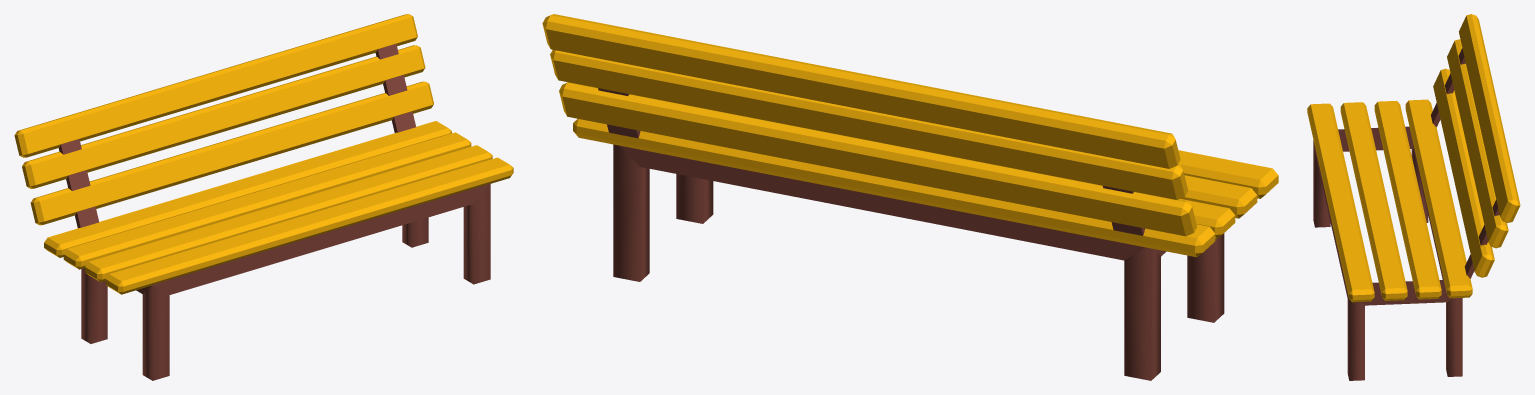
The model's file is SM_Bench_4.fbx.
3 views of the same model, side by side, from view 1: azimuth 30°, elevation 25°; view 2: azimuth 150°, elevation 25°; view 3: azimuth 270°, elevation 25° (orthographic). The views are drawn at different scales.
Parts seen in each view (by area): view 1: SM_Bench_4; view 2: SM_Bench_4; view 3: SM_Bench_4.
Part boxes in pixels (<box>): SM_Bench_4: <box>14,14,513,380</box>; SM_Bench_4: <box>542,14,1278,380</box>; SM_Bench_4: <box>1307,14,1520,380</box>.
Size of the model in its own units: 187 by 82.15 by 86.02.
